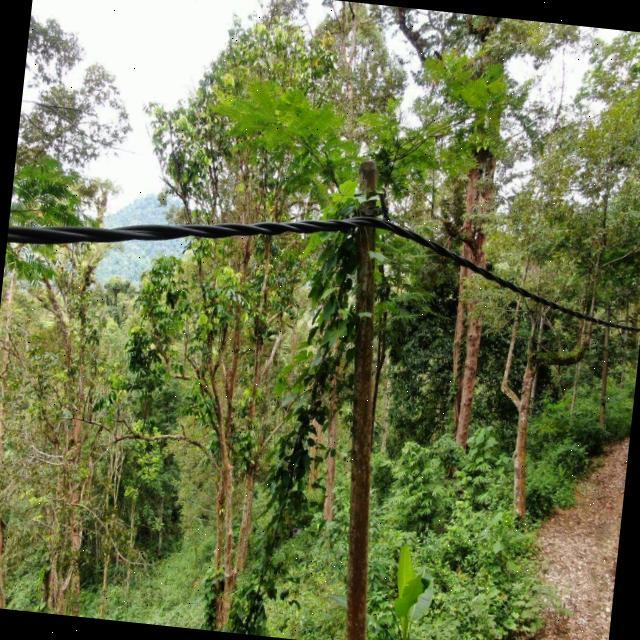critical vegetation: (230, 151, 386, 636)
